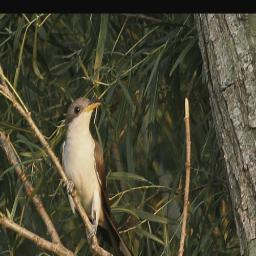Cuckoo: (59, 95, 148, 256)
